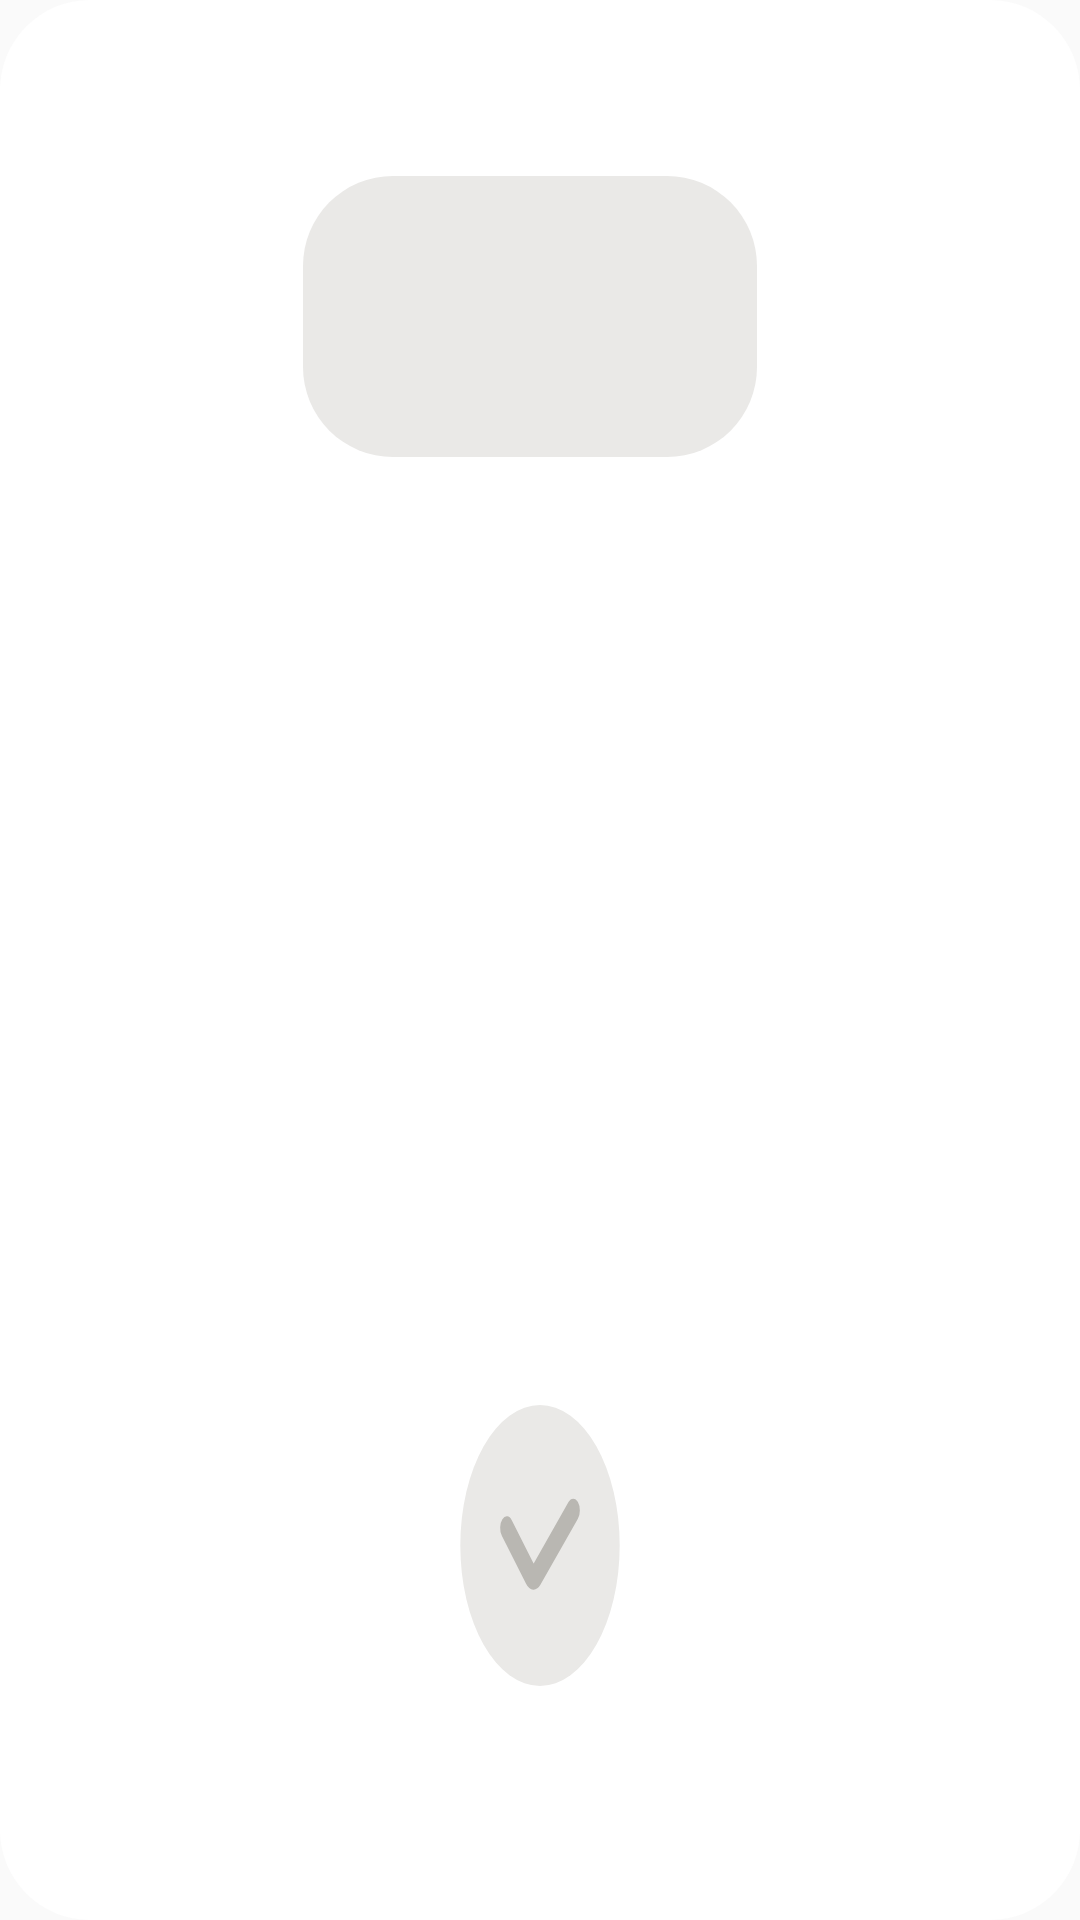

Icon bounding boxes for this 1080 × 1920 phone screenshot, format (x1, y1, x2, y2):
check on off: (460, 1405, 620, 1686)
